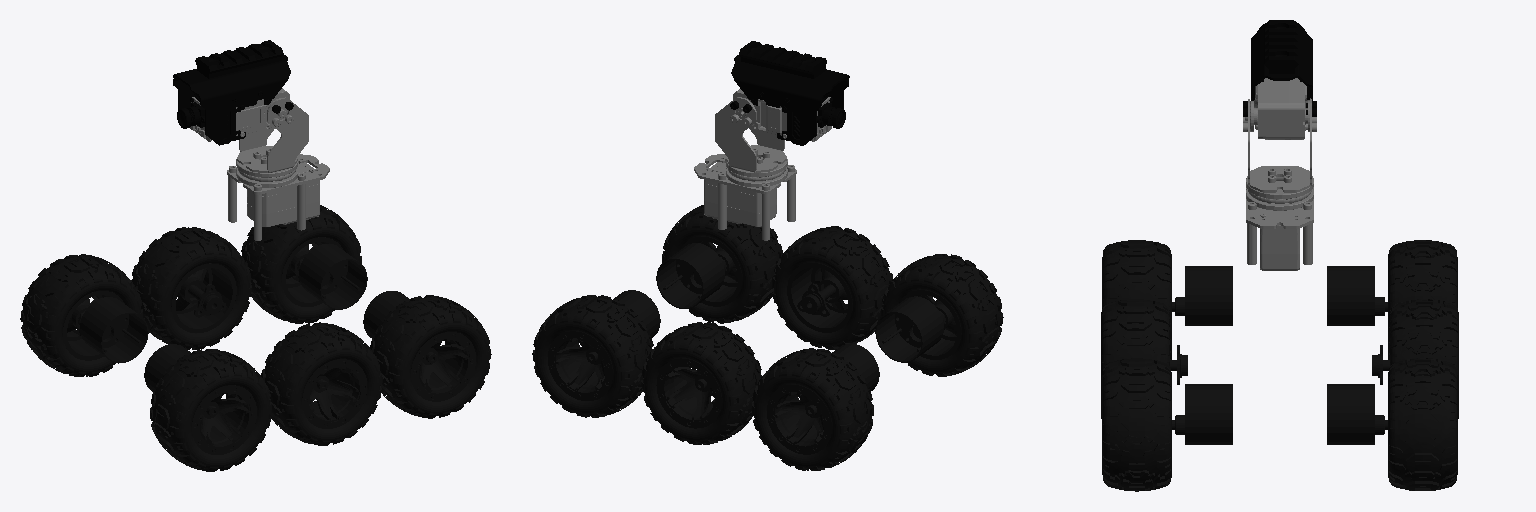
The robot description file, URDF, robot "peon_movil":
<?xml version="1.0"?>
<robot name="peon_movil">

  <link name="base_link">
    <visual>
      <origin xyz="0 0 0" rpy="0 0 0"/>
      <geometry><mesh filename="package://peon_movil_description/urdf/meshes_stl/base.stl" scale="0.001 0.001 0.001"/></geometry>
      <material name="base_link_mat"><color rgba="0.3 0.3 0.35 1"/></material>
    </visual>
    <collision>
      <origin xyz="0 0 0.0" rpy="0 0 0"/>
      <geometry><box size="0.241 0.2 0.1"/></geometry>
    </collision>
    <inertial>
      <origin xyz="0.00000 0.00000 0.00000" rpy="0 0 0"/>
      <mass value="1.4000"/>
      <inertia ixx="5.833333e-03" ixy="0" ixz="0" iyy="7.942783e-03" iyz="0" izz="1.144278e-02"/>
    </inertial>
  </link>

  <link name="wheel_fl">
    <visual>
      <origin xyz="0 0 0" rpy="0 0 0"/>
      <geometry><mesh filename="package://peon_movil_description/urdf/meshes_stl/wheel_fl.stl" scale="0.001 0.001 0.001"/></geometry>
      <material name="wheel_mat"><color rgba="0.1 0.1 0.1 1"/></material>
    </visual>
    <collision>
      <origin xyz="0 0 0" rpy="1.5708 0 0"/>
      <geometry><cylinder radius="0.041" length="0.0425"/></geometry>
    </collision>
    <inertial>
      <origin xyz="0.00000 0.00000 0.00000" rpy="0 0 0"/>
      <mass value="0.0850"/>
      <inertia ixx="4.851552e-05" ixy="0" ixz="0" iyy="7.144250e-05" iyz="0" izz="4.851552e-05"/>
    </inertial>
  </link>
  <joint name="wheel_fl_joint" type="continuous">
    <parent link="base_link"/>
    <child link="wheel_fl"/>
    <origin xyz="0.0855 0.0873 -0.0412" rpy="0 0 0"/>
    <axis xyz="0 1 0"/>
  </joint>

  <link name="wheel_fr">
    <visual>
      <origin xyz="0 0 0" rpy="0 0 0"/>
      <geometry><mesh filename="package://peon_movil_description/urdf/meshes_stl/wheel_fr.stl" scale="0.001 0.001 0.001"/></geometry>
      <material name="wheel_mat"><color rgba="0.1 0.1 0.1 1"/></material>
    </visual>
    <collision>
      <origin xyz="0 0 0" rpy="1.5708 0 0"/>
      <geometry><cylinder radius="0.041" length="0.0425"/></geometry>
    </collision>
    <inertial>
      <origin xyz="0.00000 0.00000 0.00000" rpy="0 0 0"/>
      <mass value="0.0850"/>
      <inertia ixx="4.851552e-05" ixy="0" ixz="0" iyy="7.144250e-05" iyz="0" izz="4.851552e-05"/>
    </inertial>
  </link>
  <joint name="wheel_fr_joint" type="continuous">
    <parent link="base_link"/>
    <child link="wheel_fr"/>
    <origin xyz="0.0855 -0.0873 -0.0412" rpy="0 0 0"/>
    <axis xyz="0 1 0"/>
  </joint>

  <link name="wheel_ml">
    <visual>
      <origin xyz="0 0 0" rpy="0 0 0"/>
      <geometry><mesh filename="package://peon_movil_description/urdf/meshes_stl/wheel_ml.stl" scale="0.001 0.001 0.001"/></geometry>
      <material name="wheel_mat"><color rgba="0.1 0.1 0.1 1"/></material>
    </visual>
    <collision>
      <origin xyz="0 0 0" rpy="1.5708 0 0"/>
      <geometry><cylinder radius="0.041" length="0.0425"/></geometry>
    </collision>
    <inertial>
      <origin xyz="0.00000 0.00000 0.00000" rpy="0 0 0"/>
      <mass value="0.0850"/>
      <inertia ixx="4.851552e-05" ixy="0" ixz="0" iyy="7.144250e-05" iyz="0" izz="4.851552e-05"/>
    </inertial>
  </link>
  <joint name="wheel_ml_joint" type="continuous">
    <parent link="base_link"/>
    <child link="wheel_ml"/>
    <origin xyz="0.0 0.0883 -0.0412" rpy="0 0 0"/>
    <axis xyz="0 1 0"/>
  </joint>

  <link name="wheel_mr">
    <visual>
      <origin xyz="0 0 0" rpy="0 0 0"/>
      <geometry><mesh filename="package://peon_movil_description/urdf/meshes_stl/wheel_mr.stl" scale="0.001 0.001 0.001"/></geometry>
      <material name="wheel_mat"><color rgba="0.1 0.1 0.1 1"/></material>
    </visual>
    <collision>
      <origin xyz="0 0 0" rpy="1.5708 0 0"/>
      <geometry><cylinder radius="0.041" length="0.0425"/></geometry>
    </collision>
    <inertial>
      <origin xyz="0.00000 0.00000 0.00000" rpy="0 0 0"/>
      <mass value="0.0850"/>
      <inertia ixx="4.851552e-05" ixy="0" ixz="0" iyy="7.144250e-05" iyz="0" izz="4.851552e-05"/>
    </inertial>
  </link>
  <joint name="wheel_mr_joint" type="continuous">
    <parent link="base_link"/>
    <child link="wheel_mr"/>
    <origin xyz="0.0 -0.0883 -0.0412" rpy="0 0 0"/>
    <axis xyz="0 1 0"/>
  </joint>

  <link name="wheel_rl">
    <visual>
      <origin xyz="0 0 0" rpy="0 0 0"/>
      <geometry><mesh filename="package://peon_movil_description/urdf/meshes_stl/wheel_rl.stl" scale="0.001 0.001 0.001"/></geometry>
      <material name="wheel_mat"><color rgba="0.1 0.1 0.1 1"/></material>
    </visual>
    <collision>
      <origin xyz="0 0 0" rpy="1.5708 0 0"/>
      <geometry><cylinder radius="0.041" length="0.0425"/></geometry>
    </collision>
    <inertial>
      <origin xyz="0.00000 0.00000 0.00000" rpy="0 0 0"/>
      <mass value="0.0850"/>
      <inertia ixx="4.851552e-05" ixy="0" ixz="0" iyy="7.144250e-05" iyz="0" izz="4.851552e-05"/>
    </inertial>
  </link>
  <joint name="wheel_rl_joint" type="continuous">
    <parent link="base_link"/>
    <child link="wheel_rl"/>
    <origin xyz="-0.0855 0.0873 -0.0412" rpy="0 0 0"/>
    <axis xyz="0 1 0"/>
  </joint>

  <link name="wheel_rr">
    <visual>
      <origin xyz="0 0 0" rpy="0 0 0"/>
      <geometry><mesh filename="package://peon_movil_description/urdf/meshes_stl/wheel_rr.stl" scale="0.001 0.001 0.001"/></geometry>
      <material name="wheel_mat"><color rgba="0.1 0.1 0.1 1"/></material>
    </visual>
    <collision>
      <origin xyz="0 0 0" rpy="1.5708 0 0"/>
      <geometry><cylinder radius="0.041" length="0.0425"/></geometry>
    </collision>
    <inertial>
      <origin xyz="0.00000 0.00000 0.00000" rpy="0 0 0"/>
      <mass value="0.0850"/>
      <inertia ixx="4.851552e-05" ixy="0" ixz="0" iyy="7.144250e-05" iyz="0" izz="4.851552e-05"/>
    </inertial>
  </link>
  <joint name="wheel_rr_joint" type="continuous">
    <parent link="base_link"/>
    <child link="wheel_rr"/>
    <origin xyz="-0.0855 -0.0873 -0.0412" rpy="0 0 0"/>
    <axis xyz="0 1 0"/>
  </joint>

  <link name="pan_link">
    <visual>
      <origin xyz="0 0 0" rpy="0 0 0"/>
      <geometry><mesh filename="package://peon_movil_description/urdf/meshes_stl/pan.stl" scale="0.001 0.001 0.001"/></geometry>
      <material name="pan_link_mat"><color rgba="0.5 0.5 0.5 1"/></material>
    </visual>
    <collision>
      <origin xyz="0 0 0.0" rpy="0 0 0"/>
      <geometry><box size="0.064 0.042 0.053"/></geometry>
    </collision>
    <inertial>
      <origin xyz="0.00000 0.00000 0.00000" rpy="0 0 0"/>
      <mass value="0.0800"/>
      <inertia ixx="3.048667e-05" ixy="0" ixz="0" iyy="4.603333e-05" iyz="0" izz="3.906667e-05"/>
    </inertial>
  </link>
  <joint name="pan_joint" type="revolute">
    <parent link="base_link"/>
    <child link="pan_link"/>
    <origin xyz="0.0087 0.0 0.0475" rpy="0 0 0"/>
    <axis xyz="0 0 1"/>
    <limit lower="-3.14159" upper="3.14159" effort="5" velocity="3"/>
  </joint>

  <link name="tilt_link">
    <visual>
      <origin xyz="0 0 0" rpy="0 0 0"/>
      <geometry><mesh filename="package://peon_movil_description/urdf/meshes_stl/tilt.stl" scale="0.001 0.001 0.001"/></geometry>
      <material name="tilt_link_mat"><color rgba="0.5 0.5 0.5 1"/></material>
    </visual>
    <collision>
      <origin xyz="0 0 0.0" rpy="0 0 0"/>
      <geometry><box size="0.075 0.046 0.055"/></geometry>
    </collision>
    <inertial>
      <origin xyz="0.00000 0.00000 0.00000" rpy="0 0 0"/>
      <mass value="0.0600"/>
      <inertia ixx="2.570500e-05" ixy="0" ixz="0" iyy="4.325000e-05" iyz="0" izz="3.870500e-05"/>
    </inertial>
  </link>
  <joint name="tilt_joint" type="revolute">
    <parent link="pan_link"/>
    <child link="tilt_link"/>
    <origin xyz="-0.0124 0.0 0.0835" rpy="0 0 0"/>
    <axis xyz="0 1 0"/>
    <limit lower="-1.5708" upper="1.5708" effort="5" velocity="3"/>
  </joint>

  <link name="camera_link">
    <visual>
      <origin xyz="0 0 0" rpy="0 0 0"/>
      <geometry><mesh filename="package://peon_movil_description/urdf/meshes_stl/camera.stl" scale="0.001 0.001 0.001"/></geometry>
      <material name="camera_link_mat"><color rgba="0.05 0.05 0.05 1"/></material>
    </visual>
    <collision>
      <origin xyz="0 0 0.0" rpy="0 0 0"/>
      <geometry><box size="0.08 0.046 0.055"/></geometry>
    </collision>
    <inertial>
      <origin xyz="0.00000 0.00000 0.00000" rpy="0 0 0"/>
      <mass value="0.0300"/>
      <inertia ixx="1.285250e-05" ixy="0" ixz="0" iyy="2.356250e-05" iyz="0" izz="2.129000e-05"/>
    </inertial>
  </link>
  <joint name="camera_joint" type="fixed">
    <parent link="tilt_link"/>
    <child link="camera_link"/>
    <origin xyz="-0.0263 0.0 0.021" rpy="0 0 0"/>
  </joint>

  <link name="camera_optical_frame"/>
  <joint name="camera_optical_joint" type="fixed">
    <parent link="camera_link"/>
    <child link="camera_optical_frame"/>
    <origin xyz="0 0 0" rpy="-1.5708 0 -1.5708"/>
  </joint>

</robot>

--- What the picture shows (computed from the rendered views, not written in the file) ---
The picture shows the robot from 3 angles, left to right: view 1: azimuth 30°, elevation 25°; view 2: azimuth 150°, elevation 25°; view 3: azimuth 270°, elevation 25°; orthographic projection.
Robot: peon_movil — 11 links, 10 joints (2 revolute, 6 continuous, 2 fixed); root link base_link; default pose: all joints at 0.
Links seen in each view (by area): view 1: wheel_rr, wheel_fr, wheel_rl, wheel_mr, wheel_ml, wheel_fl, camera_link, pan_link, tilt_link; view 2: wheel_rl, wheel_fl, wheel_rr, wheel_ml, wheel_mr, wheel_fr, camera_link, pan_link, tilt_link; view 3: wheel_fr, wheel_fl, wheel_rl, wheel_rr, pan_link, tilt_link, wheel_ml, wheel_mr, camera_link.
Boxes of the visible links, x1,y1,x2,y2 form: wheel_rr: (144,344,271,471); wheel_fr: (363,291,491,418); wheel_rl: (20,254,148,376); wheel_mr: (261,322,382,445); wheel_ml: (131,227,251,349); wheel_fl: (241,205,367,323); camera_link: (173,40,293,145); pan_link: (227,149,329,240); tilt_link: (190,88,308,172); wheel_rl: (752,344,879,470); wheel_fl: (532,290,660,417); wheel_rr: (875,254,1003,376); wheel_ml: (641,322,761,444); wheel_mr: (772,226,892,349); wheel_fr: (656,205,782,323); camera_link: (730,41,849,145); pan_link: (694,148,796,240); tilt_link: (715,89,831,172); wheel_fr: (1102,358,1232,491); wheel_fl: (1327,358,1457,490); wheel_rl: (1327,240,1457,359); wheel_rr: (1102,240,1232,359); pan_link: (1246,166,1313,270); tilt_link: (1243,78,1316,192); wheel_ml: (1372,299,1458,418); wheel_mr: (1101,299,1187,418); camera_link: (1243,20,1316,116).
Bounding box of the posed robot: 0.2525 × 0.2191 × 0.2545 m (x, y, z).
Meshes: 10 distinct files referenced, 9 mesh visuals loaded (9 binary STL); not drawn: 1 (reference not matched to a file when rendering).
